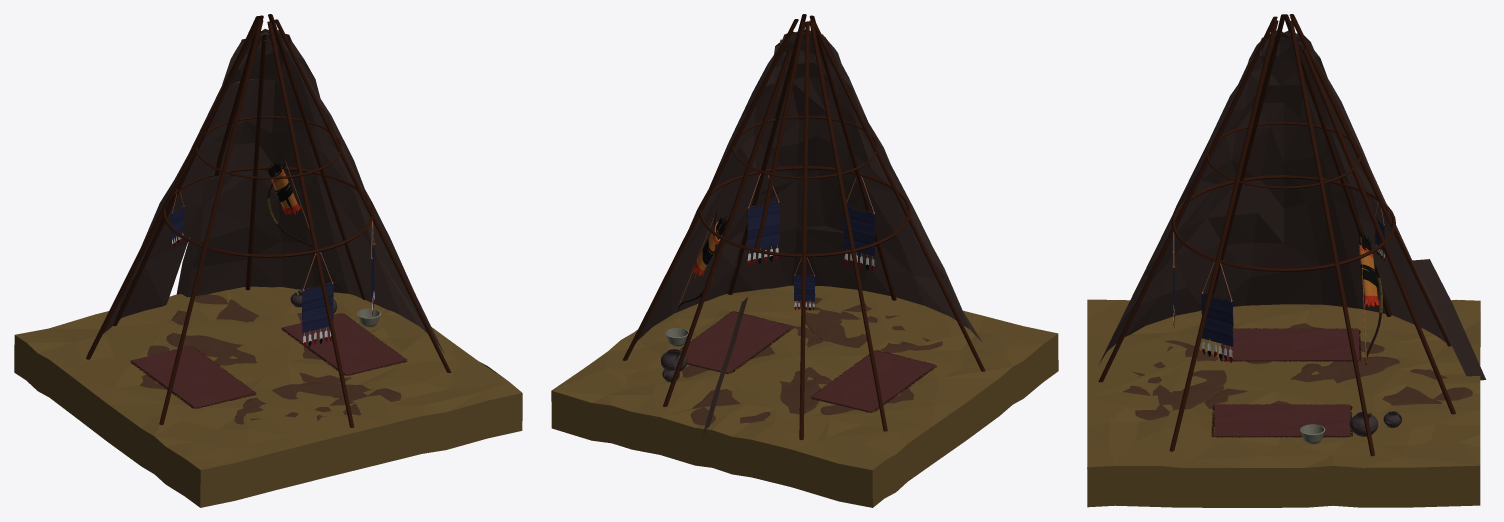
File: wig_inter.obj
3 views of the same model, side by side, from view 1: azimuth 30°, elevation 25°; view 2: azimuth 150°, elevation 25°; view 3: azimuth 270°, elevation 25° (orthographic). The views are drawn at different scales.
Parts seen in each view (by area): view 1: Plane, Cube_Cube.006, Cube.003_Cube.002, Plane.009_Plane.008, Plane.010_Plane.009, Plane.007_Plane.006, Torus, Plane.008_Plane.007, Plane.002_Mesh, Cube.005; view 2: Plane, Cube_Cube.006, Cube.003_Cube.002, Plane.009_Plane.008, Plane.010_Plane.009, Torus, Plane.007_Plane.006, Plane.008_Plane.007, Plane.001_Mesh.004, Plane.002_Mesh, Cube.005, Plane.006_Plane.005 (+1 smaller); view 3: Plane, Cube_Cube.006, Cube.003_Cube.002, Plane.010_Plane.009, Plane.009_Plane.008, Torus, Plane.007_Plane.006, Plane.008_Plane.007, Plane.001_Mesh.004, Cube.005, Cylinder.
Boxes of the visible parts, left/top/right/bottom form: Plane: left=14, top=286, right=522, bottom=507; Cube_Cube.006: left=87, top=29, right=444, bottom=354; Cube.003_Cube.002: left=86, top=14, right=451, bottom=427; Plane.009_Plane.008: left=130, top=346, right=256, bottom=408; Plane.010_Plane.009: left=281, top=313, right=407, bottom=375; Plane.007_Plane.006: left=166, top=294, right=258, bottom=365; Torus: left=162, top=116, right=374, bottom=257; Plane.008_Plane.007: left=234, top=382, right=401, bottom=424; Plane.002_Mesh: left=298, top=252, right=337, bottom=347; Cube.005: left=266, top=162, right=300, bottom=215; Plane: left=551, top=285, right=1058, bottom=507; Cube_Cube.006: left=635, top=29, right=982, bottom=435; Cube.003_Cube.002: left=623, top=14, right=985, bottom=440; Plane.009_Plane.008: left=810, top=350, right=936, bottom=412; Plane.010_Plane.009: left=679, top=311, right=793, bottom=373; Torus: left=699, top=116, right=910, bottom=257; Plane.007_Plane.006: left=690, top=367, right=831, bottom=425; Plane.008_Plane.007: left=797, top=297, right=942, bottom=353; Plane.001_Mesh.004: left=743, top=173, right=783, bottom=266; Plane.002_Mesh: left=840, top=176, right=879, bottom=270; Cube.005: left=692, top=214, right=728, bottom=278; Plane.006_Plane.005: left=682, top=326, right=822, bottom=377; Plane: left=1087, top=299, right=1480, bottom=507; Cube_Cube.006: left=1099, top=30, right=1485, bottom=380; Cube.003_Cube.002: left=1098, top=14, right=1455, bottom=456; Plane.010_Plane.009: left=1211, top=404, right=1352, bottom=437; Plane.009_Plane.008: left=1220, top=328, right=1361, bottom=361; Torus: left=1171, top=122, right=1395, bottom=271; Plane.007_Plane.006: left=1290, top=356, right=1472, bottom=405; Plane.008_Plane.007: left=1123, top=340, right=1226, bottom=420; Plane.001_Mesh.004: left=1197, top=261, right=1237, bottom=362; Cube.005: left=1358, top=232, right=1380, bottom=308; Cylinder: left=1349, top=411, right=1378, bottom=436.
Bounding box in the file's own units: 8.38 × 9.58 × 8.58.
